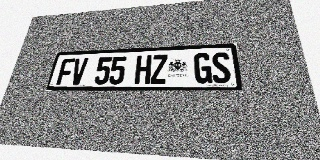5: (108, 56, 127, 84), (94, 57, 112, 84)
F: (56, 58, 75, 85)
G: (194, 53, 212, 84)
H: (134, 55, 152, 84)
S: (211, 52, 232, 83)
V: (69, 58, 88, 85)
Z: (150, 54, 168, 84)
